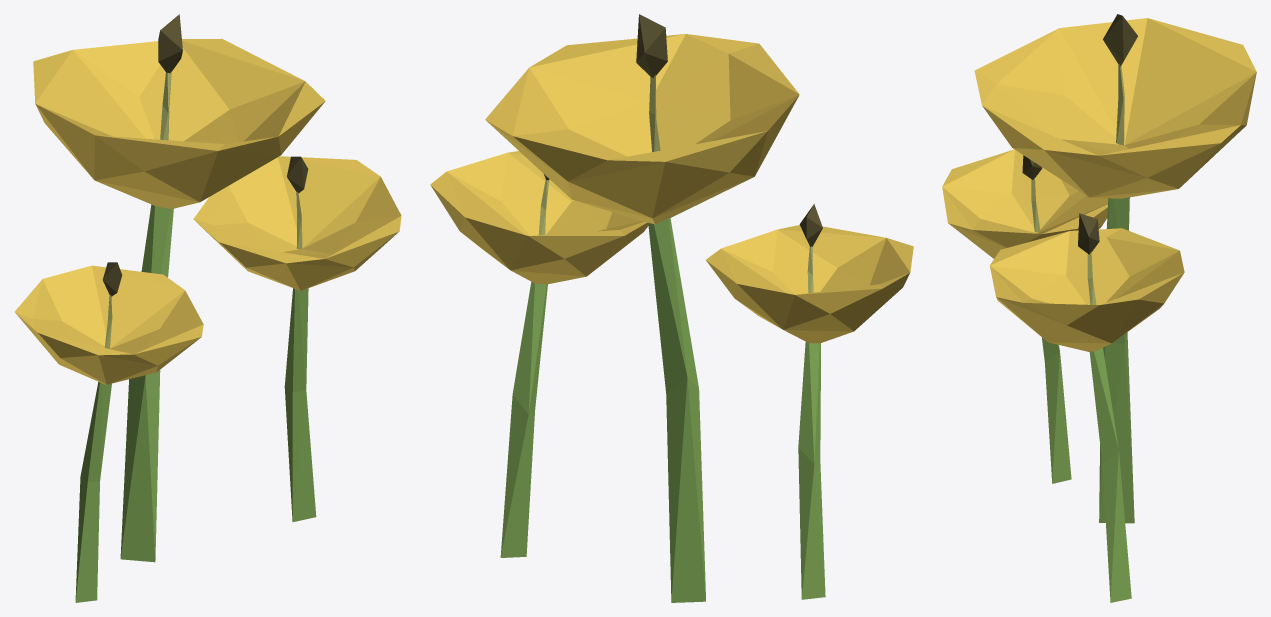
Rendered from 黄色小花丛1.fbx.
The picture shows the model from 3 angles, left to right: view 1: azimuth 30°, elevation 25°; view 2: azimuth 150°, elevation 25°; view 3: azimuth 270°, elevation 25°; orthographic projection. The views are drawn at different scales.
Visible parts, largest first — view 1: Flower2_1; view 2: Flower2_1; view 3: Flower2_1.
Part boxes in pixels (x1=…): Flower2_1: x1=14, y1=14, x2=401, y2=602; Flower2_1: x1=430, y1=14, x2=913, y2=602; Flower2_1: x1=942, y1=14, x2=1256, y2=602.
Bounding box in the file's own units: 43.81 × 57.65 × 31.3.
